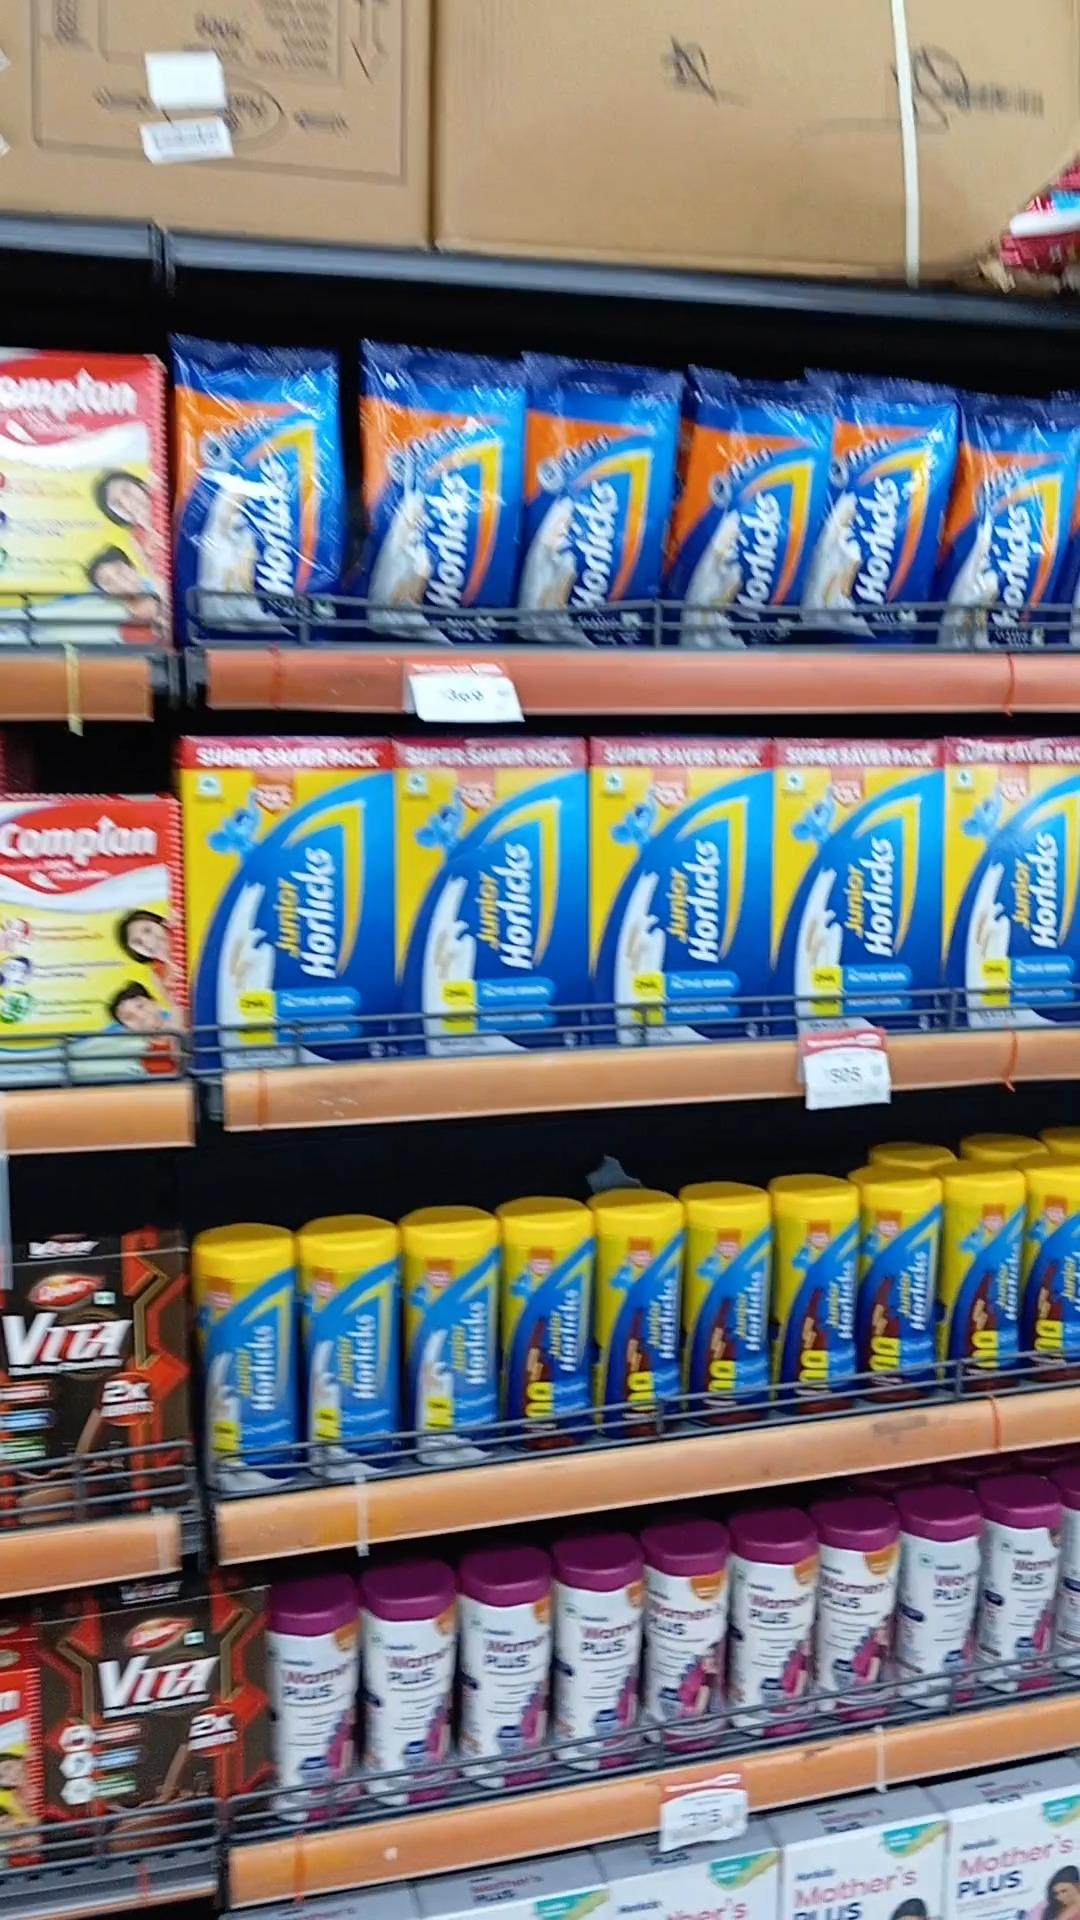COMPLAN_CREAMY_CLASSIC_500_G_PACK: (1, 796, 183, 1085), (1, 357, 164, 647)
HORLICKS_JUNIOR_VANILLA_500_GM_JAR: (194, 1226, 291, 1505), (299, 1222, 398, 1486), (404, 1213, 498, 1474)
HORLICK_CLASSIC_MALT_750_G_POUCH: (177, 340, 339, 637), (363, 344, 516, 641), (527, 365, 675, 644), (943, 375, 1080, 655), (680, 372, 815, 649), (822, 375, 936, 654)
